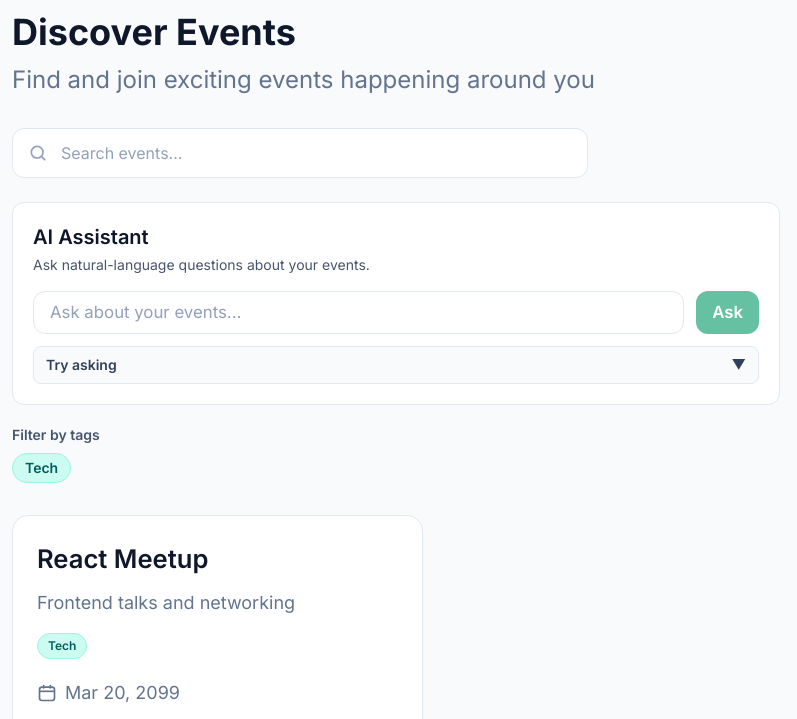
EventsPage › submits assistant question and renders returned answer
Expected: the heading "React Meetup" is shown, [37,543,208,574]
Type "How many events do I have?" into the field with placeholder "Ask about your events...". click: x=359, y=313
box: [33,291,684,334]
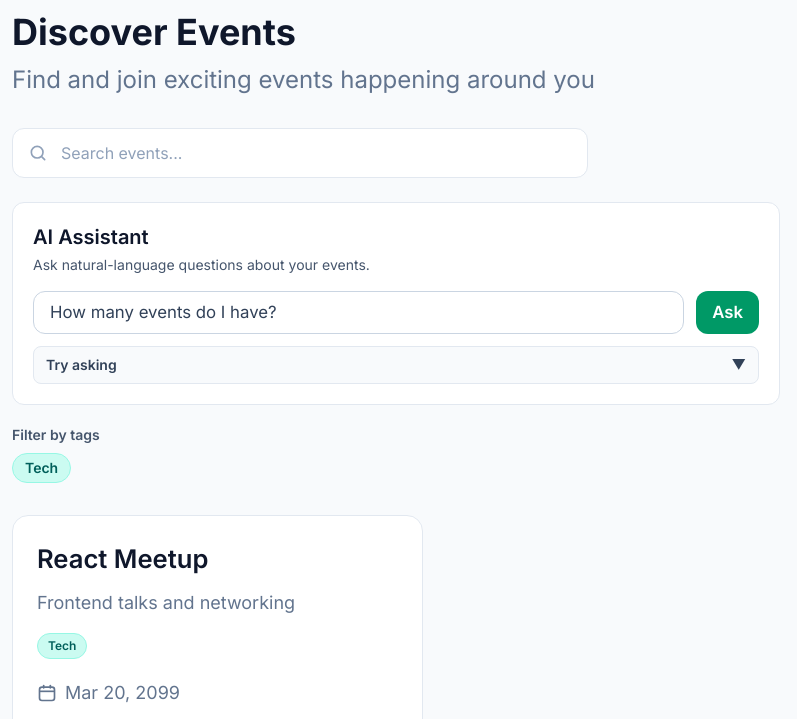
Click the button "Ask". click: x=728, y=313
box: [696,291,759,334]
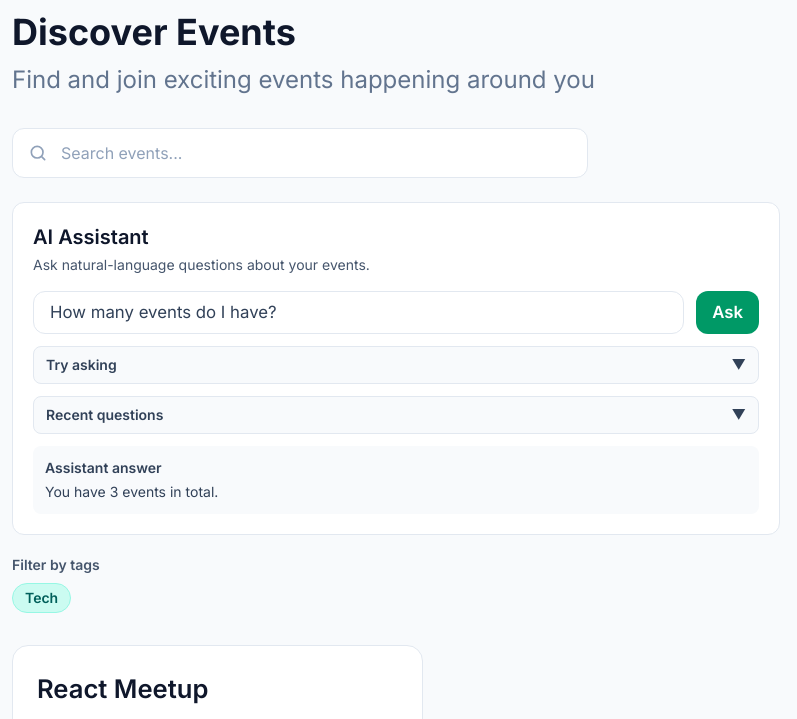
Expected: the text "Assistant answer" is shown, [45,459,162,476]
Expected: the text "You have 3 events in total." is shown, [45,483,218,500]
